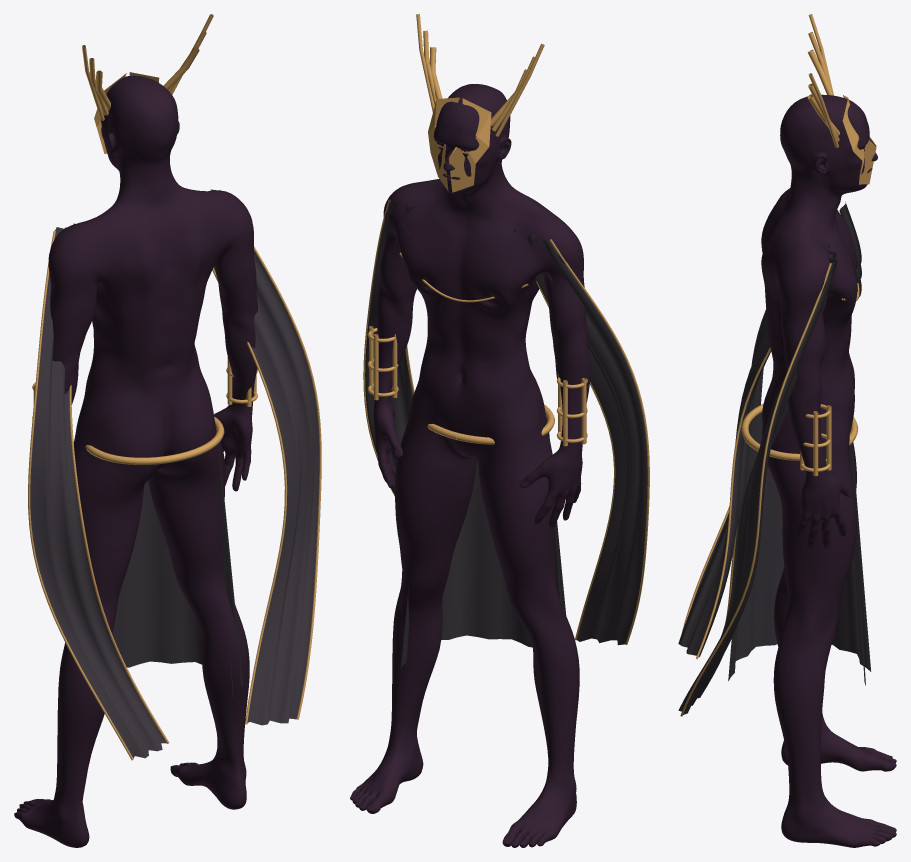
File: phenax.glb
3 renders of one model, left to right at view 1: azimuth 30°, elevation 25°; view 2: azimuth 150°, elevation 25°; view 3: azimuth 270°, elevation 25°, orthographic. The views are drawn at different scales.
Visible parts, largest first — view 1: Anatomy, FateStole, FateStole.001, LayeredRobe, StoleBorder.003, StoleBorder.001, WaistGirdle, StoleBorder, StoleBorder.002; view 2: Anatomy, FateStole.001, LayeredRobe, FateStole, GoldenMask.001, StoleBorder.003, GoldenMask, WaistGirdle, StoleBorder.002, StoleBorder.001; view 3: Anatomy, LayeredRobe, FateStole, FateStole.001, StoleBorder.001, StoleBorder.002, GoldenMask, WaistGirdle, GatheredShoulderWrap.
Boxes of the visible parts, x1,y1,x2,y2 form: Anatomy: (14,75,257,847); FateStole: (210,189,319,725); FateStole.001: (30,223,166,758); LayeredRobe: (112,443,243,698); StoleBorder.003: (28,230,133,760); StoleBorder.001: (220,190,321,719); WaistGirdle: (85,417,224,464); StoleBorder: (212,268,287,724); StoleBorder.002: (69,385,169,743); Anatomy: (350,84,590,847); FateStole.001: (514,230,647,645); LayeredRobe: (400,417,566,668); FateStole: (365,201,428,494); GoldenMask.001: (449,98,491,192); StoleBorder.003: (549,239,649,644); GoldenMask: (428,97,459,191); WaistGirdle: (427,404,554,444); StoleBorder.002: (536,281,615,640); StoleBorder.001: (363,199,394,496); Anatomy: (761,94,896,847); LayeredRobe: (728,412,871,685); FateStole: (678,245,837,714); FateStole.001: (678,309,771,656); StoleBorder.001: (680,263,831,716); StoleBorder.002: (696,347,770,659); GoldenMask: (842,99,876,184); WaistGirdle: (741,404,858,460); GatheredShoulderWrap: (839,202,861,297).
Bounding box in the file's own units: 1.21 × 3.12 × 0.8134.
